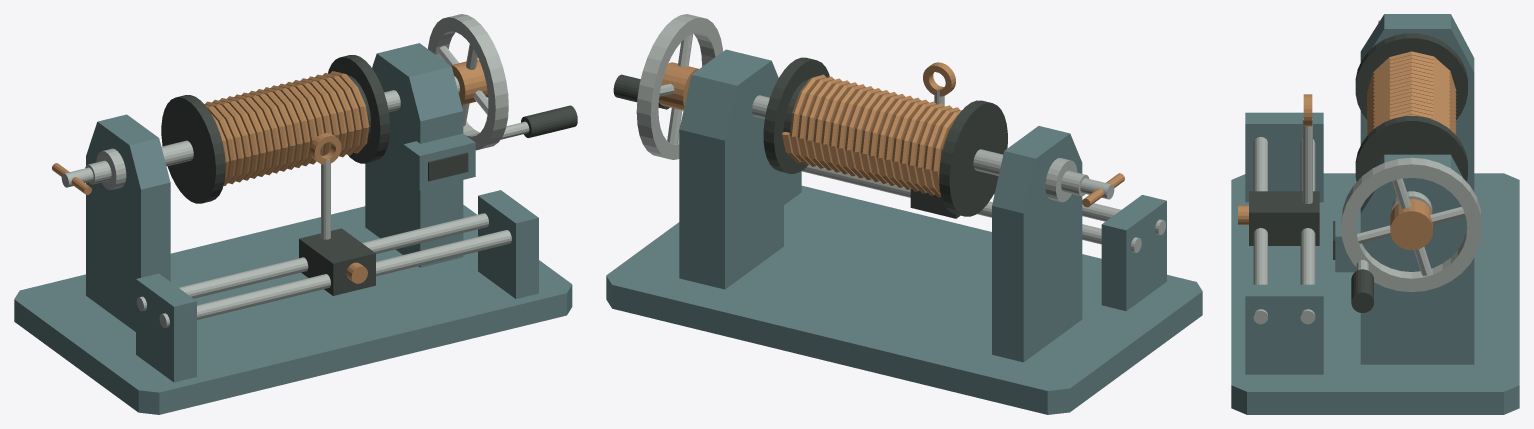
The picture shows the model from 3 angles, left to right: view 1: azimuth 30°, elevation 25°; view 2: azimuth 150°, elevation 25°; view 3: azimuth 270°, elevation 25°; orthographic projection. The views are drawn at different scales.
Visible parts, largest first — view 1: WholeChamferedMachineBase, WholeTailstockHousing, WholeDriveHousing, WholeContinuousTwentyTurnWinding, WholeFrontTraverseEndStandard0, WholeFrontTraverseEndStandard1, WholeBobbinFlange-1, WholeParallelTraverseGuideRod1, WholeOpenFourSpokeHandwheelRim, WholeParallelTraverseGuideRod0, WholeShortFrontTraverseCarriage, WholeBobbinFlange1 (+8 smaller); view 2: WholeChamferedMachineBase, WholeDriveHousing, WholeTailstockHousing, WholeContinuousTwentyTurnWinding, WholeFrontTraverseEndStandard0, WholeBobbinFlange-1, WholeOpenFourSpokeHandwheelRim, WholeBobbinFlange1, WholeParallelTraverseGuideRod0, WholeHorizontalThroughWindingSpindle, WholeHandwheelHub, WholeProudSpindleBearingCollar-1 (+4 smaller); view 3: WholeChamferedMachineBase, WholeDriveHousing, WholeOpenFourSpokeHandwheelRim, WholeFrontTraverseEndStandard1, WholeContinuousTwentyTurnWinding, WholeFrontTraverseEndStandard0, WholeTailstockHousing, WholeBobbinFlange1, WholeShortFrontTraverseCarriage, WholeBobbinFlange-1, WholeParallelTraverseGuideRod1, WholeHandwheelHub (+9 smaller).
Boxes of the visible parts, bbox=[...] form: WholeChamferedMachineBase: bbox=[14, 205, 572, 414]; WholeTailstockHousing: bbox=[86, 114, 170, 331]; WholeDriveHousing: bbox=[365, 43, 463, 267]; WholeContinuousTwentyTurnWinding: bbox=[204, 71, 369, 185]; WholeFrontTraverseEndStandard0: bbox=[136, 273, 196, 382]; WholeFrontTraverseEndStandard1: bbox=[478, 190, 538, 298]; WholeBobbinFlange-1: bbox=[161, 95, 225, 203]; WholeParallelTraverseGuideRod1: bbox=[159, 230, 511, 327]; WholeOpenFourSpokeHandwheelRim: bbox=[428, 14, 508, 150]; WholeParallelTraverseGuideRod0: bbox=[136, 213, 488, 311]; WholeShortFrontTraverseCarriage: bbox=[299, 228, 375, 295]; WholeBobbinFlange1: bbox=[328, 55, 389, 163]; WholeChamferedMachineBase: bbox=[606, 185, 1202, 414]; WholeDriveHousing: bbox=[679, 49, 783, 289]; WholeTailstockHousing: bbox=[992, 126, 1082, 362]; WholeContinuousTwentyTurnWinding: bbox=[782, 74, 961, 197]; WholeFrontTraverseEndStandard0: bbox=[1101, 195, 1166, 311]; WholeBobbinFlange-1: bbox=[939, 100, 1007, 216]; WholeOpenFourSpokeHandwheelRim: bbox=[636, 14, 722, 159]; WholeBobbinFlange1: bbox=[763, 57, 829, 173]; WholeParallelTraverseGuideRod0: bbox=[801, 164, 1141, 252]; WholeHorizontalThroughWindingSpindle: bbox=[752, 95, 1089, 196]; WholeHandwheelHub: bbox=[659, 62, 698, 110]; WholeProudSpindleBearingCollar-1: bbox=[1045, 158, 1077, 202]; WholeChamferedMachineBase: bbox=[1231, 173, 1519, 414]; WholeDriveHousing: bbox=[1360, 154, 1474, 364]; WholeOpenFourSpokeHandwheelRim: bbox=[1341, 157, 1482, 292]; WholeFrontTraverseEndStandard1: bbox=[1245, 284, 1323, 374]; WholeContinuousTwentyTurnWinding: bbox=[1367, 51, 1456, 135]; WholeFrontTraverseEndStandard0: bbox=[1245, 112, 1323, 202]; WholeTailstockHousing: bbox=[1360, 14, 1474, 192]; WholeBobbinFlange1: bbox=[1355, 116, 1467, 181]; WholeShortFrontTraverseCarriage: bbox=[1249, 191, 1319, 245]; WholeBobbinFlange-1: bbox=[1355, 33, 1467, 120]; WholeParallelTraverseGuideRod1: bbox=[1253, 137, 1267, 324]; WholeHandwheelHub: bbox=[1390, 199, 1432, 249].
Size of the model in its own units: 1.49 by 0.68 by 0.735.
